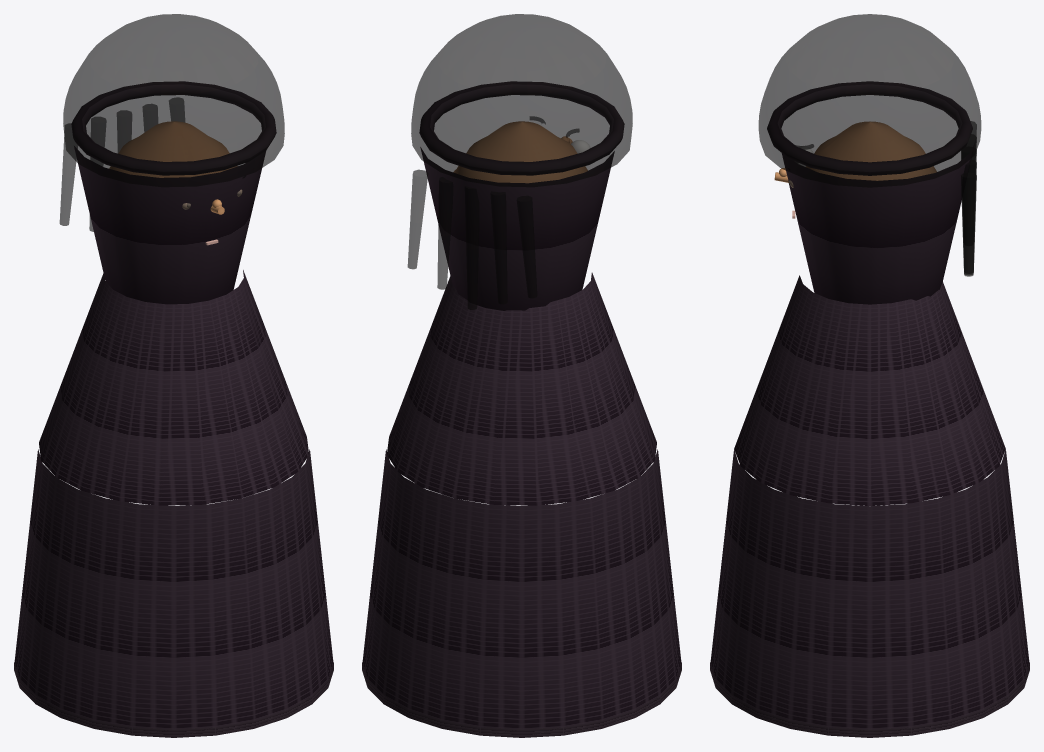
File: rhoda.glb
The picture shows the model from 3 angles, left to right: view 1: azimuth 30°, elevation 25°; view 2: azimuth 150°, elevation 25°; view 3: azimuth 270°, elevation 25°; orthographic projection.
Visible parts, largest first — view 1: Character_rhoda_the_servant, head; view 2: Character_rhoda_the_servant, head; view 3: Character_rhoda_the_servant, head.
Boxes of the visible parts, left/top/right/bottom form: Character_rhoda_the_servant: left=14, top=14, right=333, bottom=737; head: left=109, top=121, right=236, bottom=177; Character_rhoda_the_servant: left=362, top=14, right=681, bottom=737; head: left=454, top=121, right=587, bottom=182; Character_rhoda_the_servant: left=710, top=14, right=1029, bottom=737; head: left=806, top=121, right=936, bottom=180.
Size of the model in its own units: 0.8072 by 1.8 by 0.8072.
10 materials, 6 textured.
